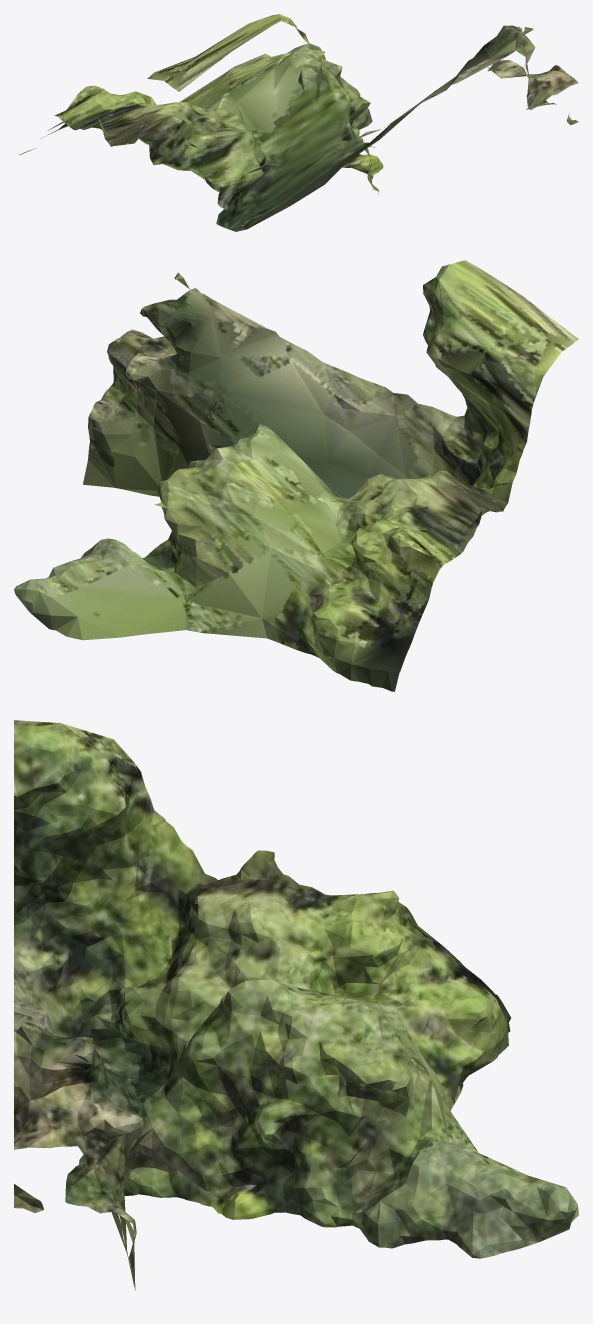
3 renders of one model, top to bottom at view 1: azimuth 30°, elevation 25°; view 2: azimuth 150°, elevation 25°; view 3: azimuth 270°, elevation 25°, orthographic. The views are drawn at different scales.
Size of the model in its own units: 26.11 by 15.06 by 21.25.
2 materials, 2 textured.
